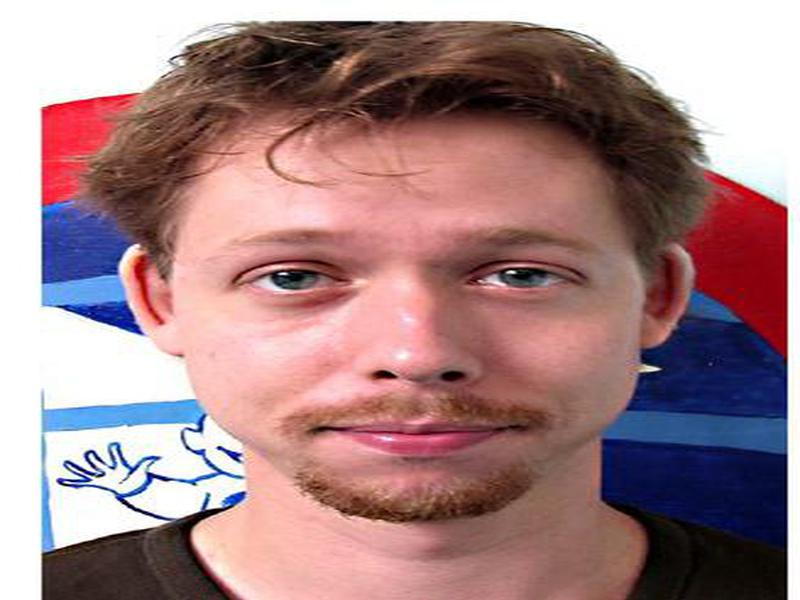without_mask: (168, 167, 638, 523)
